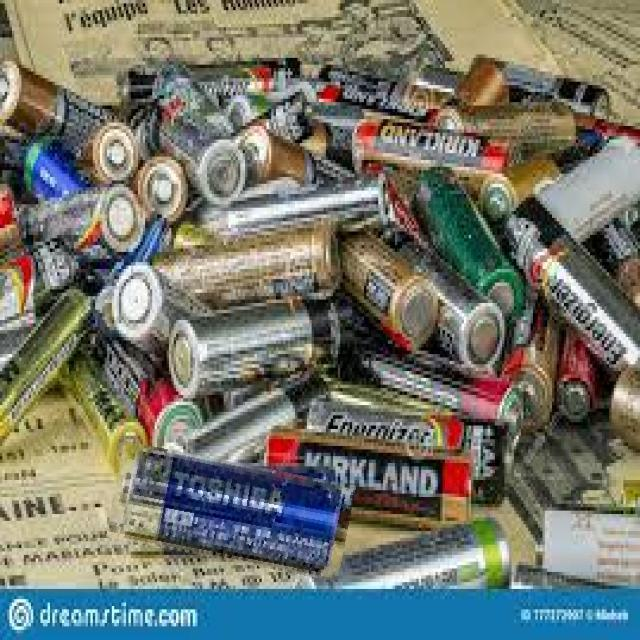Battery: (0, 43, 640, 591)
